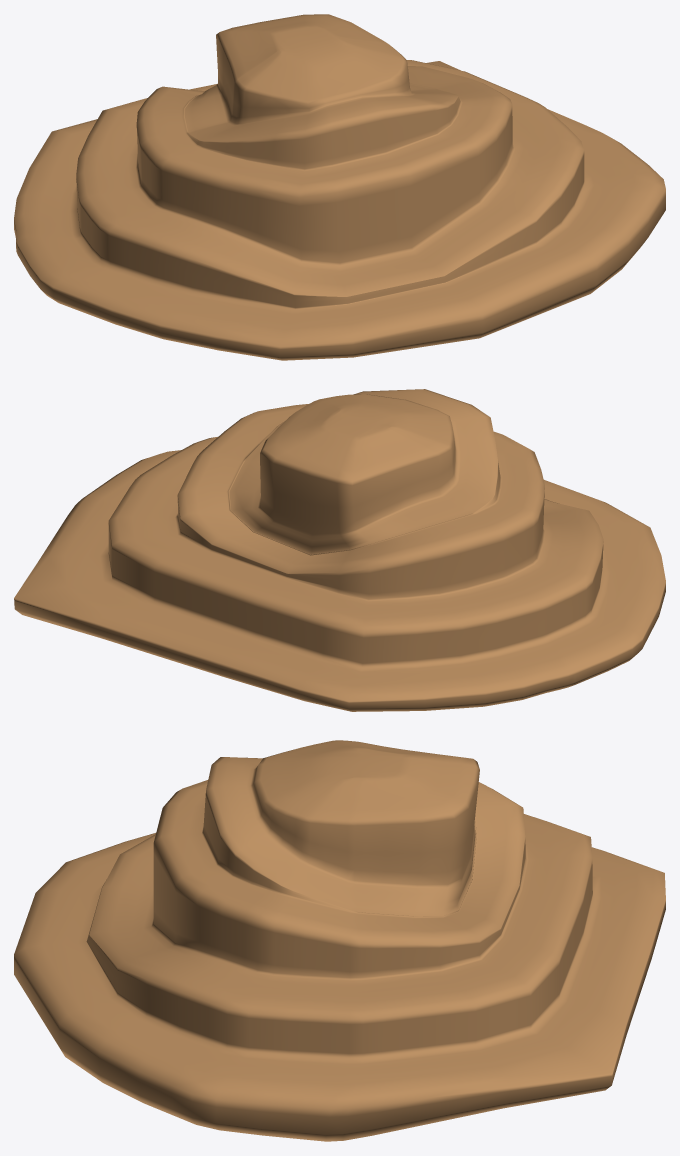
File: terrain_W4A7.fbx
The picture shows the model from 3 angles, top to bottom: view 1: azimuth 30°, elevation 25°; view 2: azimuth 150°, elevation 25°; view 3: azimuth 270°, elevation 25°; orthographic projection. The views are drawn at different scales.
Visible parts, largest first — view 1: W4A7_mesh; view 2: W4A7_mesh; view 3: W4A7_mesh.
Part boxes in pixels (left/top/right/bottom): W4A7_mesh: left=14, top=14, right=665, bottom=360; W4A7_mesh: left=14, top=389, right=665, bottom=711; W4A7_mesh: left=14, top=740, right=665, bottom=1141.
Size of the model in its own units: 30901 by 10302 by 27340.
